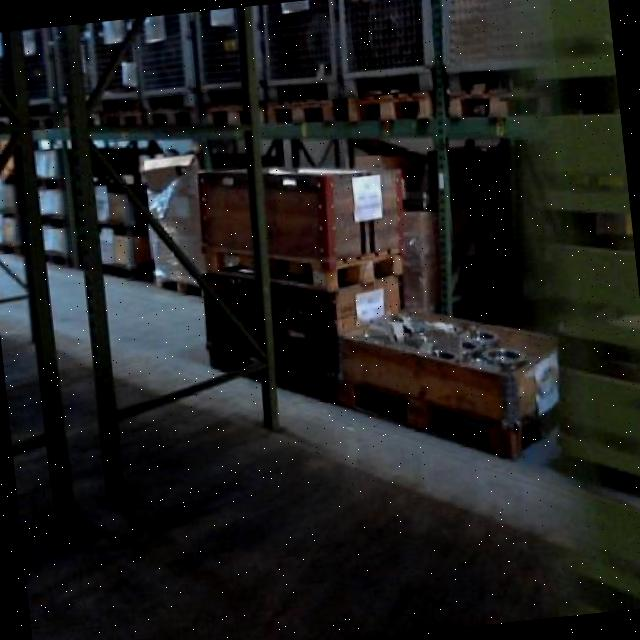pallet: (322, 366, 564, 470), (199, 243, 407, 296), (342, 82, 437, 127), (259, 92, 343, 126), (142, 100, 196, 138), (95, 98, 146, 138), (194, 102, 256, 128)
